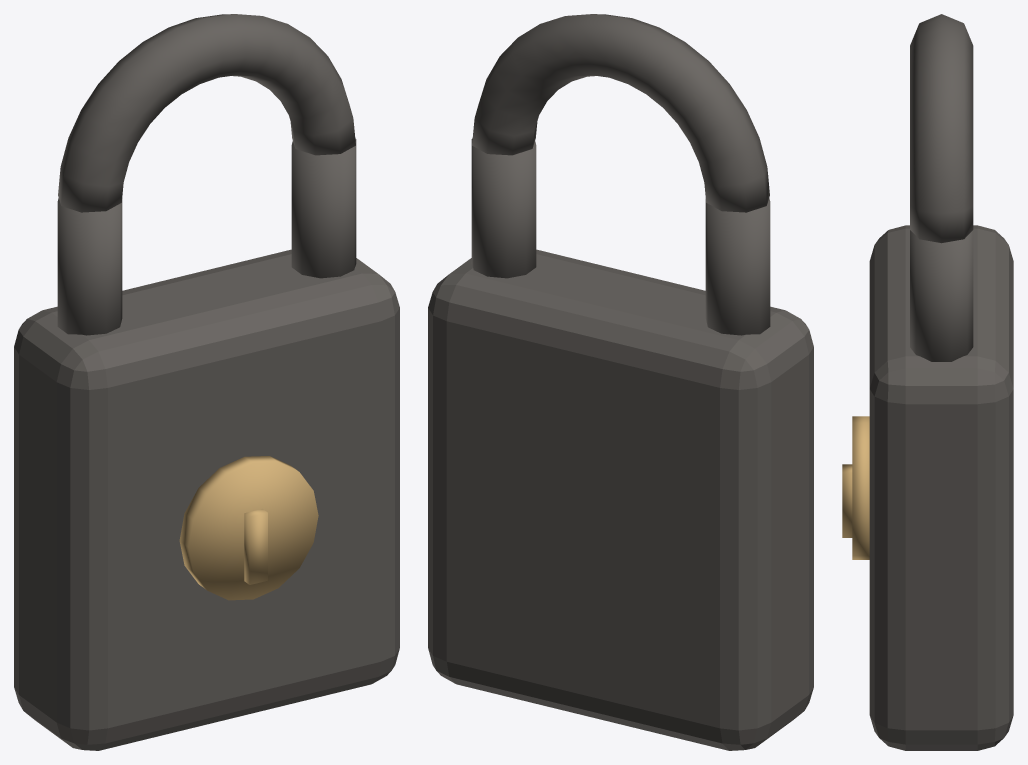
The model's file is padlock.glb.
The picture shows the model from 3 angles, left to right: view 1: azimuth 30°, elevation 25°; view 2: azimuth 150°, elevation 25°; view 3: azimuth 270°, elevation 25°; orthographic projection. The views are drawn at different scales.
Parts seen in each view (by area): view 1: lock_body, lock_shackle, lock_plate; view 2: lock_body, lock_shackle; view 3: lock_body, lock_shackle, lock_plate.
Part boxes in pixels (x1,y1,x2,y2): lock_body: [14, 249, 399, 750]; lock_shackle: [57, 14, 356, 335]; lock_plate: [179, 456, 318, 600]; lock_body: [428, 249, 813, 750]; lock_shackle: [471, 14, 770, 335]; lock_body: [869, 225, 1013, 750]; lock_shackle: [910, 14, 973, 361]; lock_plate: [842, 416, 869, 559].
Bounding box in the file's own units: 0.26 × 0.502 × 0.119.
